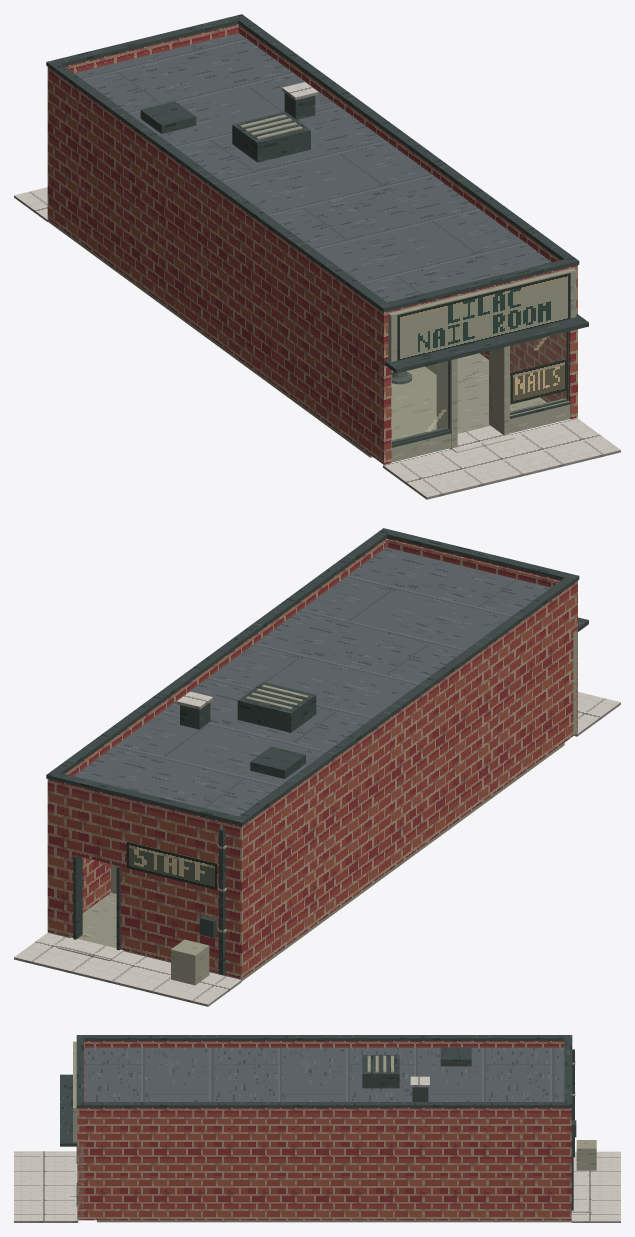
File: salon-2010.glb
The picture shows the model from 3 angles, top to bottom: view 1: azimuth 30°, elevation 25°; view 2: azimuth 150°, elevation 25°; view 3: azimuth 270°, elevation 25°; orthographic projection. The views are drawn at different scales.
Visible parts, largest first — view 1: shell, lot, sign_name, fixed_interior, sign_shop_window; view 2: shell, lot, fixed_interior, sign_staff; view 3: shell, lot, fixed_interior.
Boxes of the visible parts, bbox=[...] form: shell: bbox=[46, 14, 588, 464]; lot: bbox=[14, 187, 620, 499]; sign_name: bbox=[397, 273, 570, 360]; fixed_interior: bbox=[47, 219, 546, 457]; sign_shop_window: bbox=[510, 359, 567, 404]; shell: bbox=[46, 528, 588, 978]; lot: bbox=[14, 692, 620, 1006]; fixed_interior: bbox=[47, 743, 564, 981]; sign_staff: bbox=[126, 842, 216, 889]; shell: bbox=[60, 1035, 591, 1220]; lot: bbox=[14, 1140, 620, 1222]; fixed_interior: bbox=[97, 1220, 571, 1222].
Size of what is drawn, in the model's own units: 6.05 by 5.06 by 22.1.
9 materials, 9 textured.
